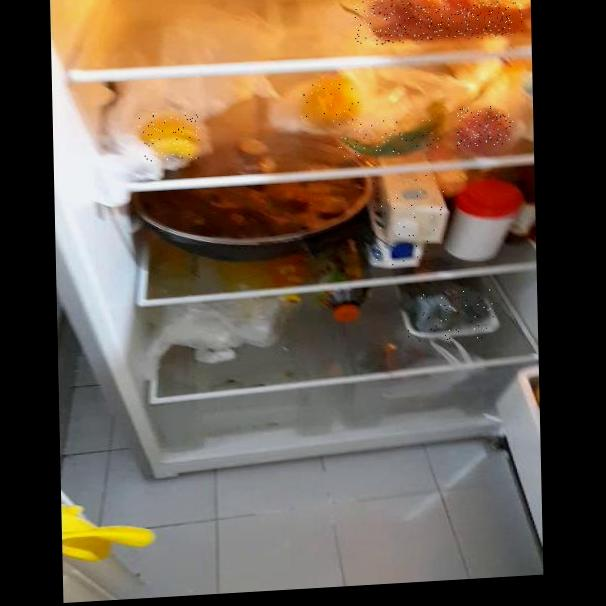broccoli: (405, 288, 499, 343)
carrot: (353, 0, 523, 46)
green chilies: (338, 117, 439, 158)
lemon: (139, 110, 200, 162), (300, 81, 360, 127)
milk: (373, 172, 446, 266)
tomato: (456, 105, 515, 147)
